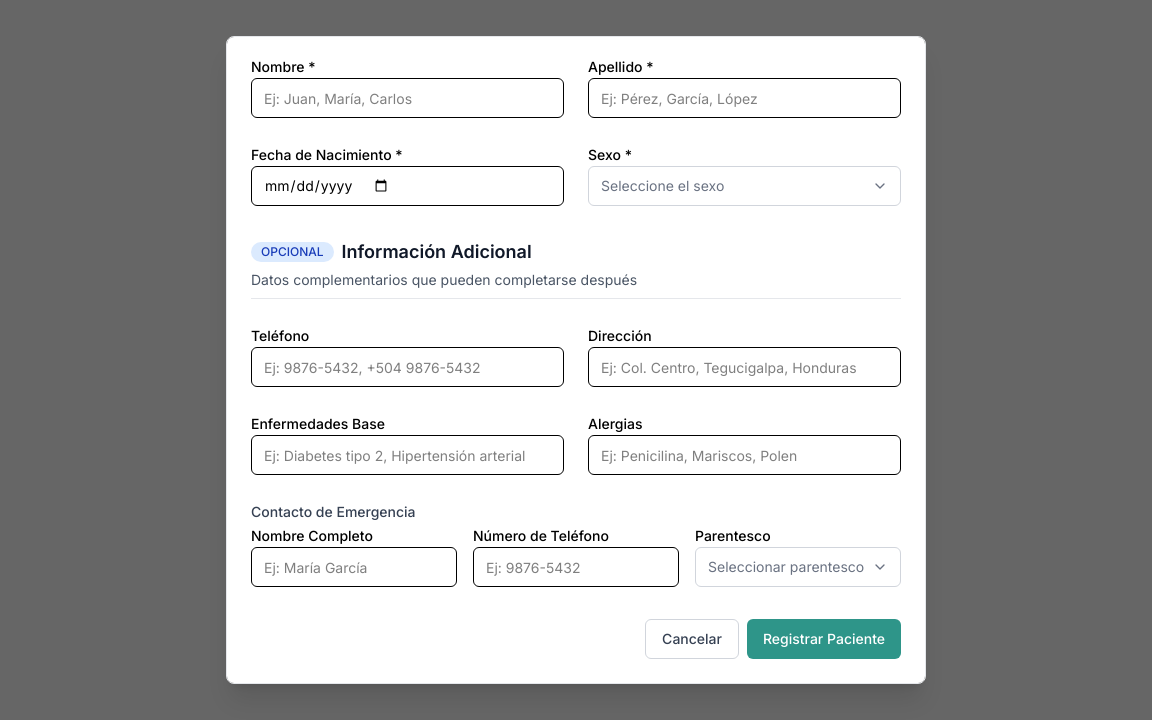
PatientModal › should display validation errors when required fields are empty
(page scrolled)
Click the button "Registrar Paciente" at (824, 639), box [747,619,901,659]
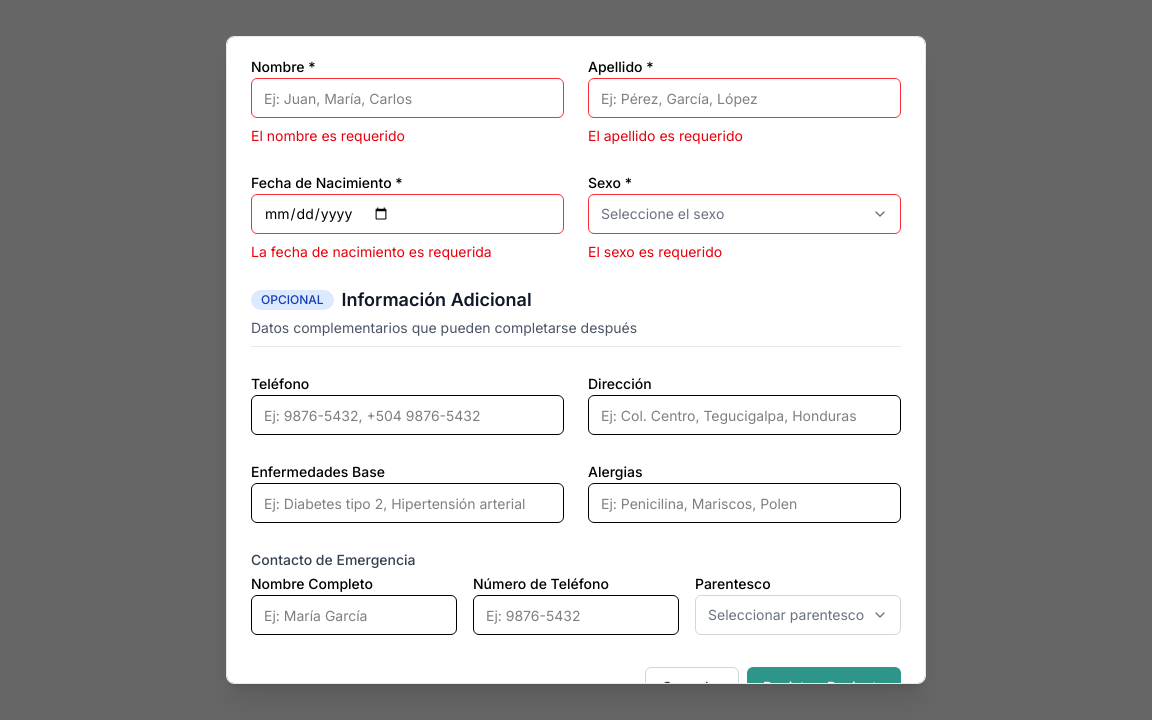
Check: the text "El nombre es requerido" is shown, box [251,127,405,144]
